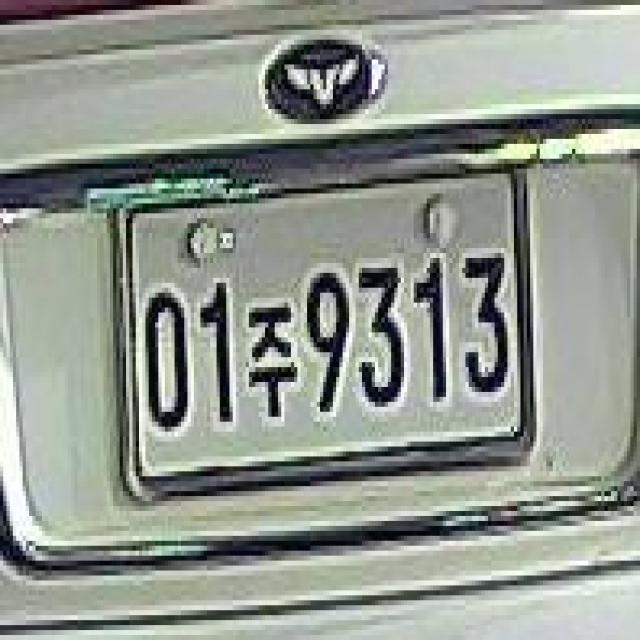illegal_plate: (113, 153, 540, 495)
